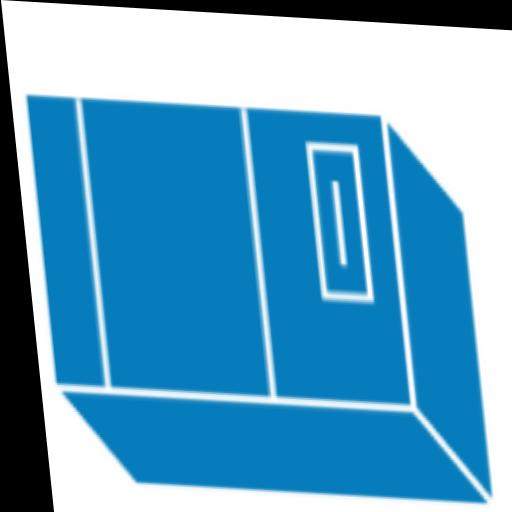Server: (0, 2, 512, 512)
